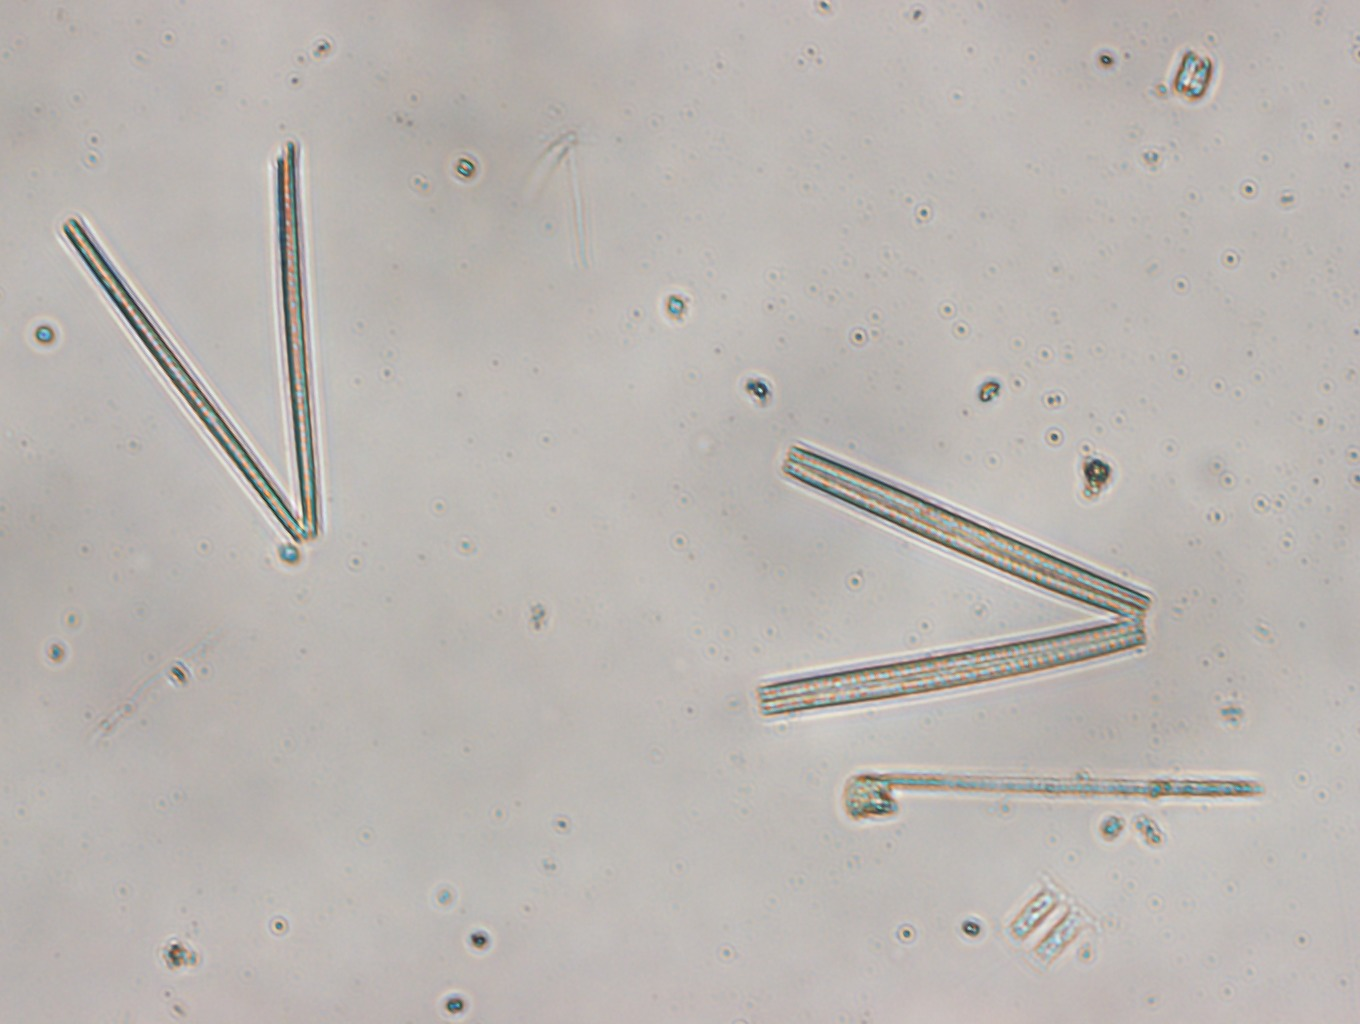thalassionema frauenfeldii: (759, 442, 1153, 723), (56, 141, 324, 542)
